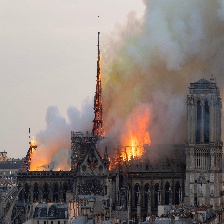fire: (112, 109, 149, 163), (26, 138, 44, 169)
smoke: (38, 1, 224, 155)
